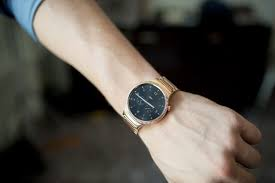clock: (128, 83, 165, 120)
